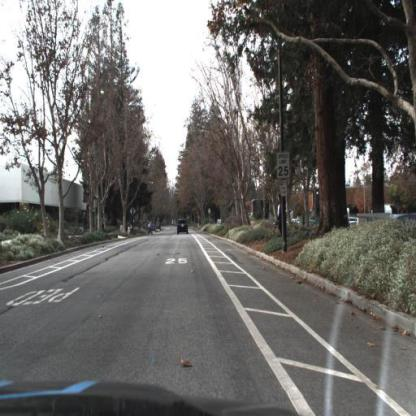car: (176, 215, 192, 236)
pedestrian: (276, 191, 284, 238), (81, 206, 90, 232), (149, 220, 154, 236)
